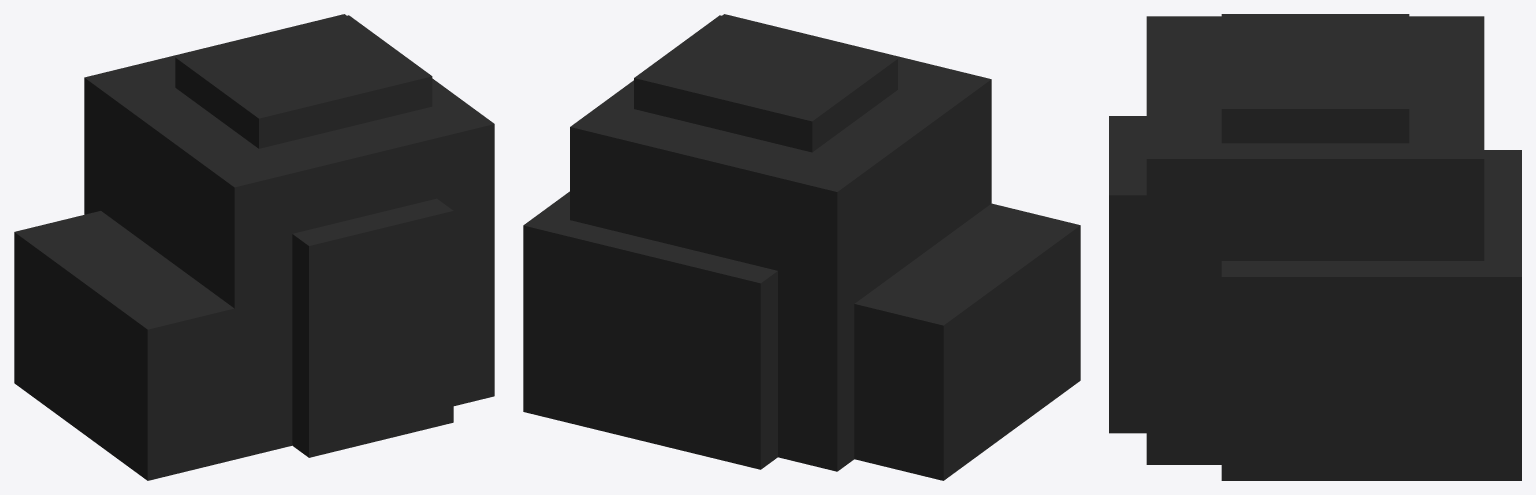
Rendered from rock_2.obj.
3 views of the same model, side by side, from view 1: azimuth 30°, elevation 25°; view 2: azimuth 150°, elevation 25°; view 3: azimuth 270°, elevation 25° (orthographic). The views are drawn at different scales.
Size of the model in its own units: 1.3 by 1 by 1.1.
1 material, 1 textured.
